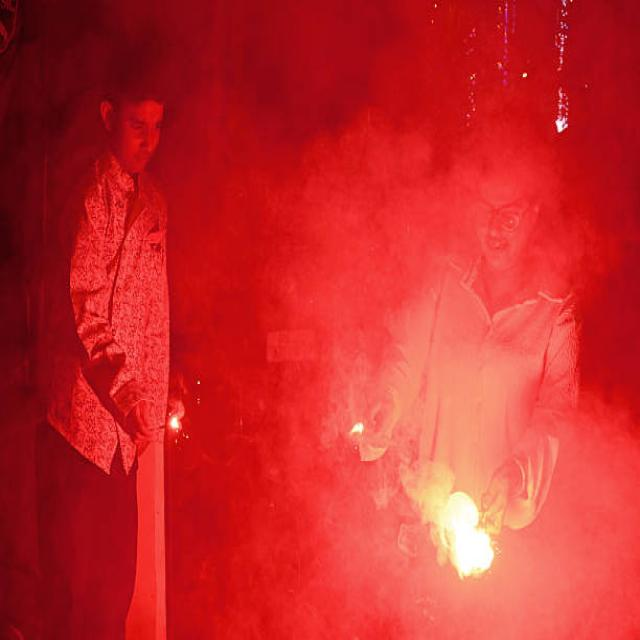fire: (438, 490, 495, 582)
